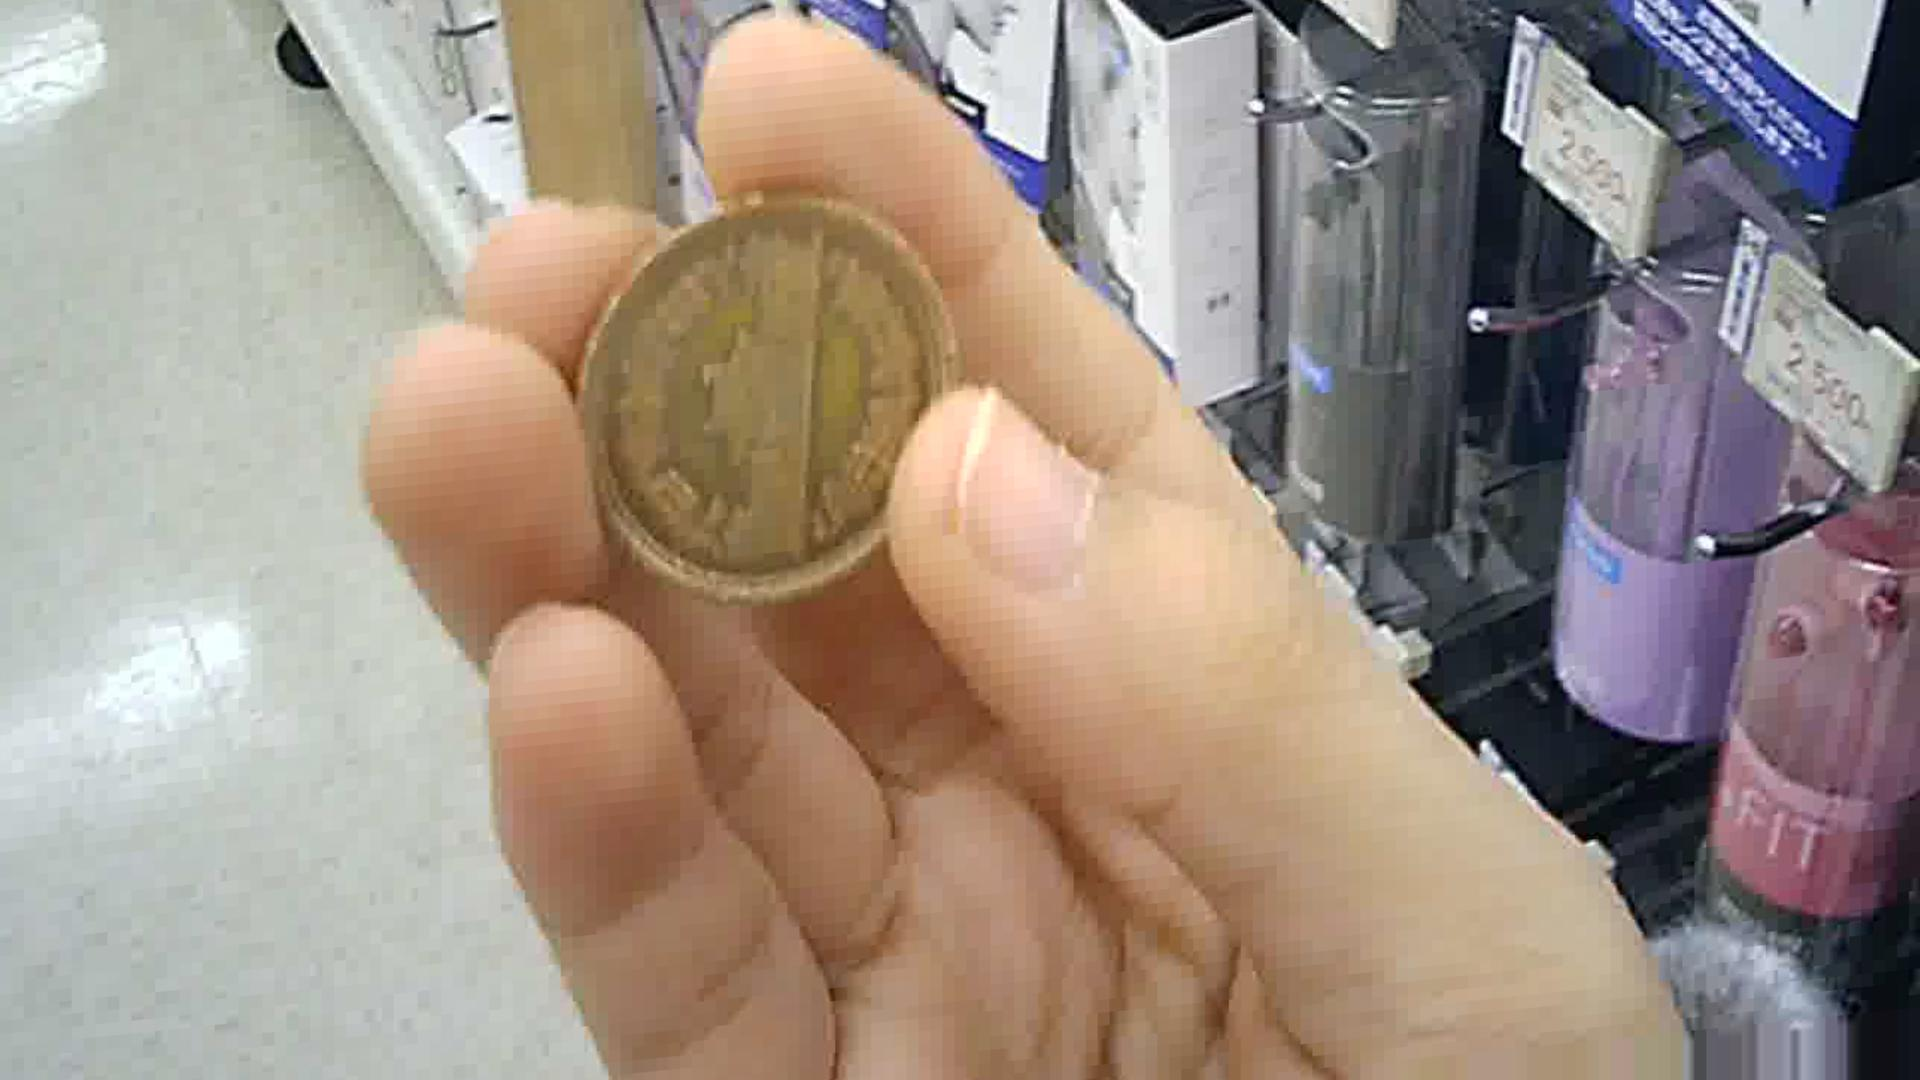10 Yen: (568, 202, 967, 617)
